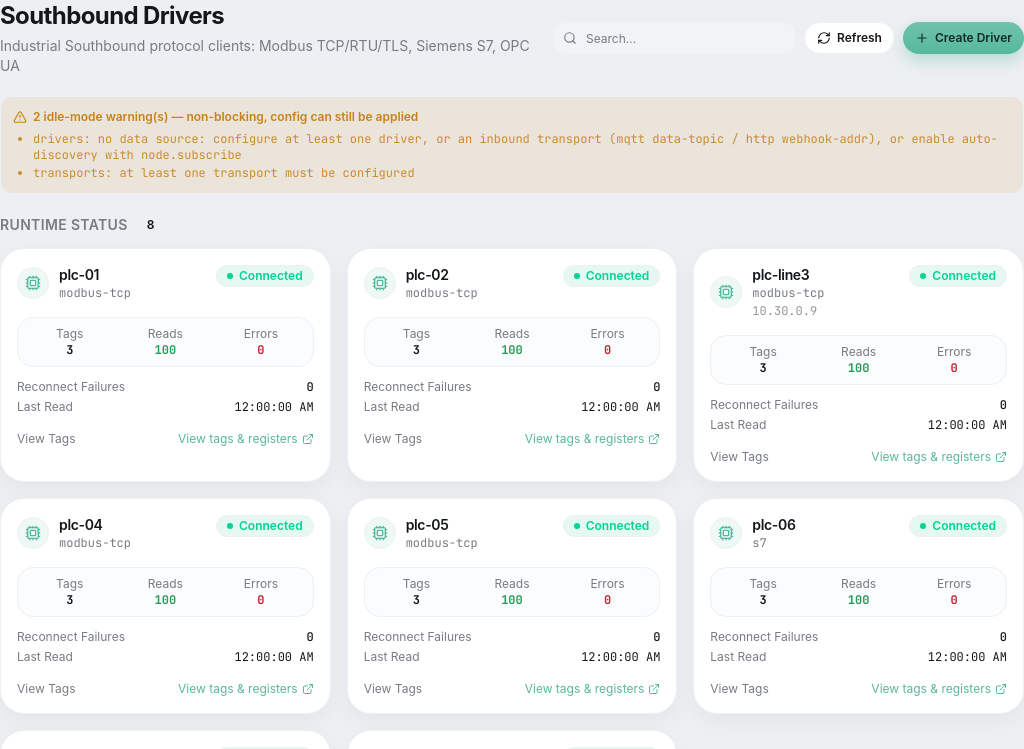
page-header search covers both zones › DriversPage: the runtime zone also matches the connection summary
This screenshot has width=1024, height=749.
Type "10.30.0.9" into the field with placeholder "Search...". click: coordinates (674, 38)
box: [553,22,796,54]
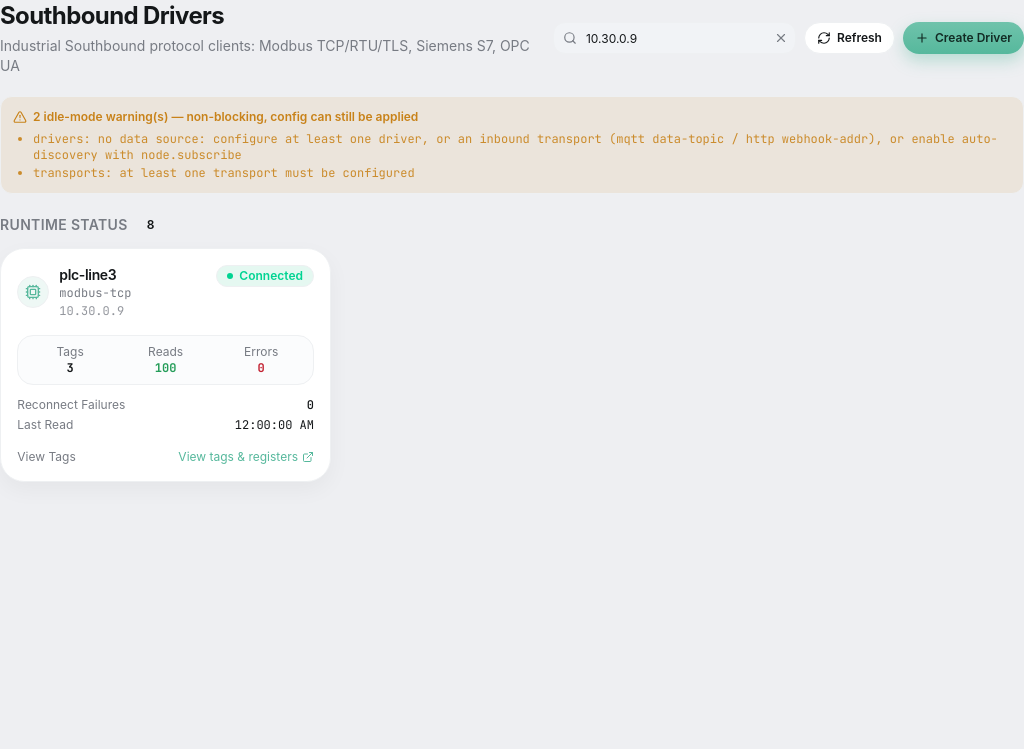
Expected: the heading "plc-line3" is shown, [59,266,116,283]
Result: the button "plc-01" is gone
